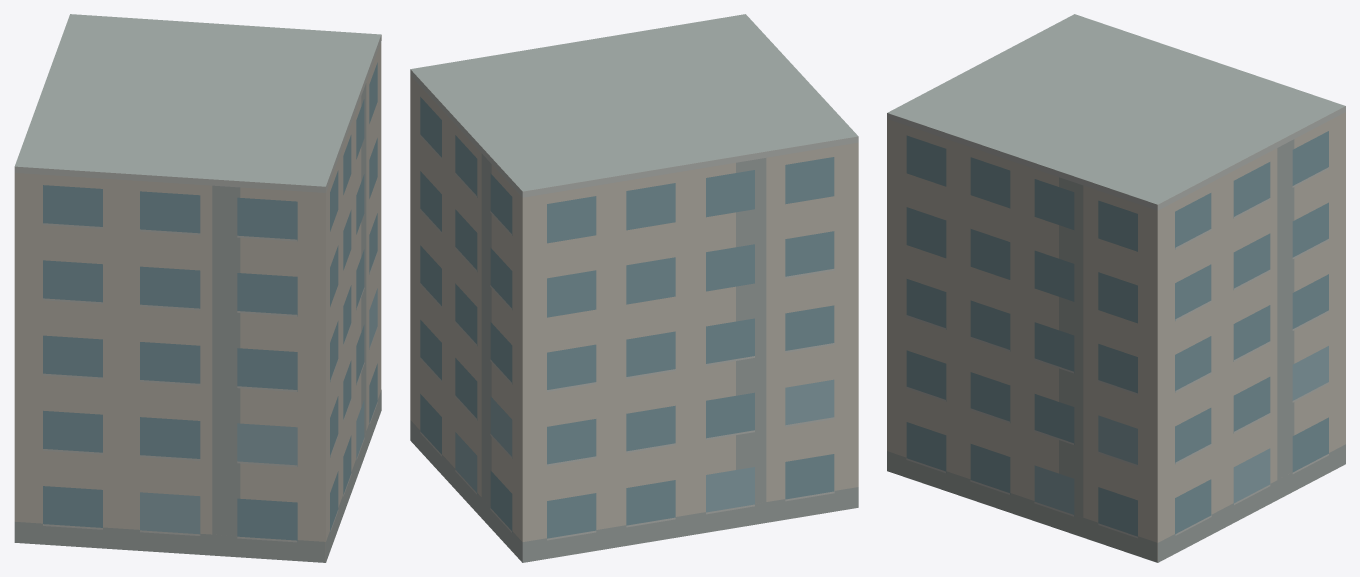
Rendered from survey-upis-32931425.glb.
3 renders of one model, left to right at view 1: azimuth 30°, elevation 25°; view 2: azimuth 150°, elevation 25°; view 3: azimuth 270°, elevation 25°, orthographic. The views are drawn at different scales.
Parts seen in each view (by area): view 1: survey-upis-32931425.tmp; view 2: survey-upis-32931425.tmp; view 3: survey-upis-32931425.tmp.
Boxes of the visible parts, left/top/right/bottom form: survey-upis-32931425.tmp: left=14, top=14, right=381, bottom=562; survey-upis-32931425.tmp: left=410, top=14, right=858, bottom=562; survey-upis-32931425.tmp: left=887, top=14, right=1345, bottom=562.
Size of the model in its own units: 16.68 by 14.6 by 16.96.
